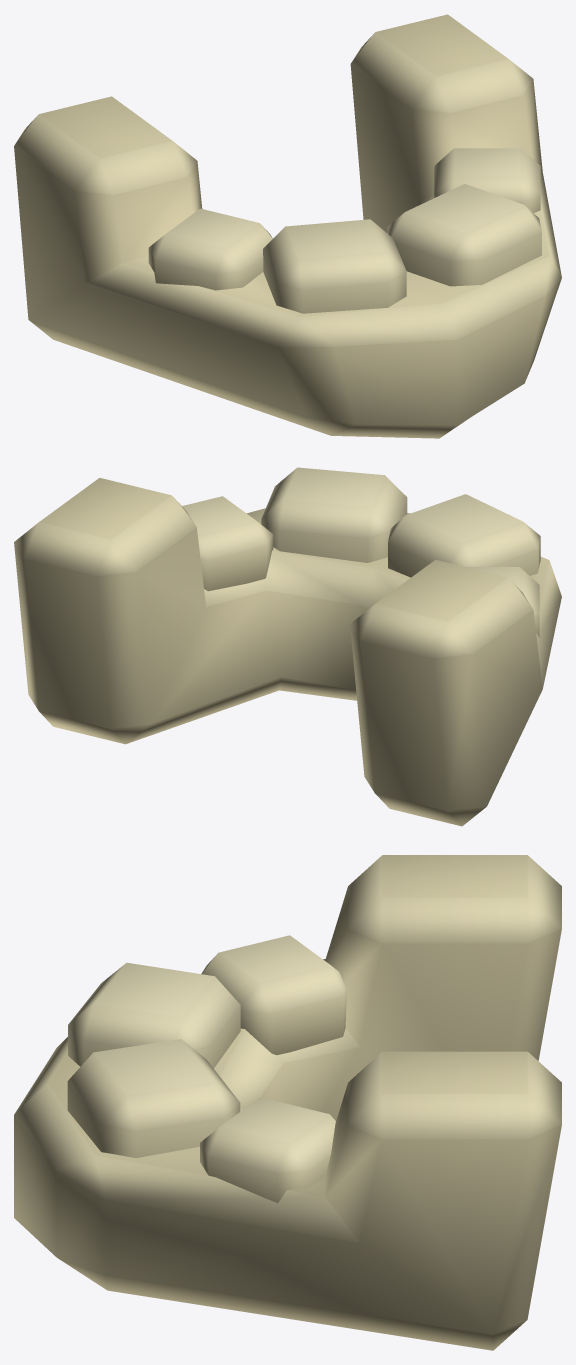
Rendered from jaw_skeleton_female.fbx.
The picture shows the model from 3 angles, top to bottom: view 1: azimuth 30°, elevation 25°; view 2: azimuth 150°, elevation 25°; view 3: azimuth 270°, elevation 25°; orthographic projection. The views are drawn at different scales.
Parts seen in each view (by area): view 1: jaw_skeleton_female; view 2: jaw_skeleton_female; view 3: jaw_skeleton_female.
Part boxes in pixels (<box>): jaw_skeleton_female: <box>14,14,561,438</box>; jaw_skeleton_female: <box>14,467,561,826</box>; jaw_skeleton_female: <box>14,855,561,1350</box>.
Size of the model in its own units: 38.26 by 18.33 by 33.12.
